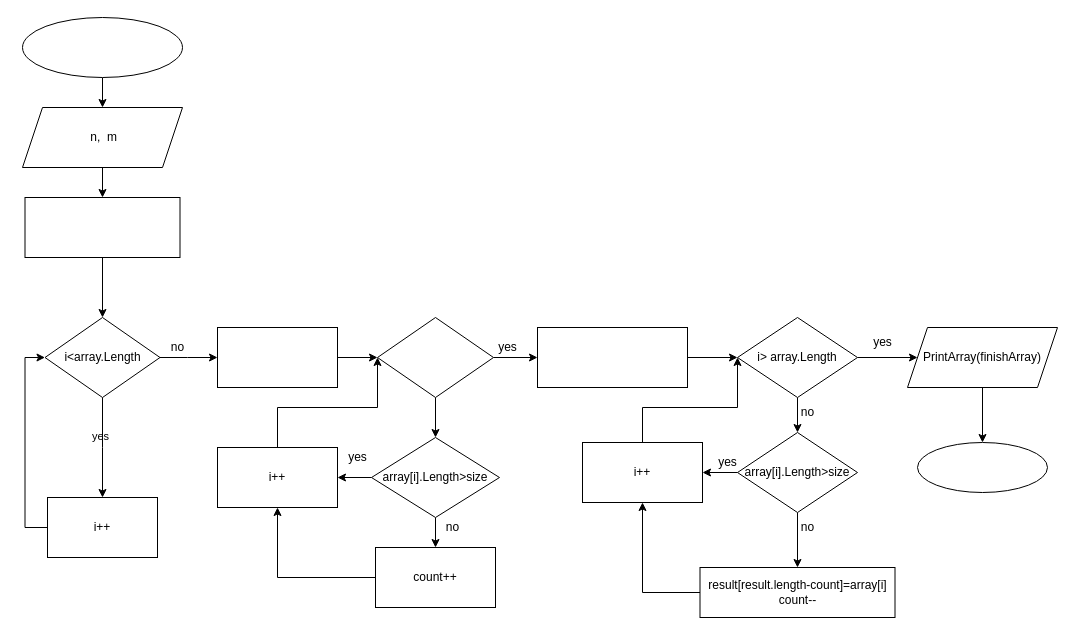
This 1075x635 diagram has some shape labels left out. Each missing label, with the box of its shape:
count=0 i=0: (216, 326, 338, 388)
end: (916, 442, 1048, 492)
i>array.Length: (376, 316, 494, 398)
size=m string[]array=new string[n] i=0 n=array.Length: (24, 196, 180, 258)
start: (22, 16, 182, 78)
string[] result=new string[count] i=0: (536, 326, 688, 388)
